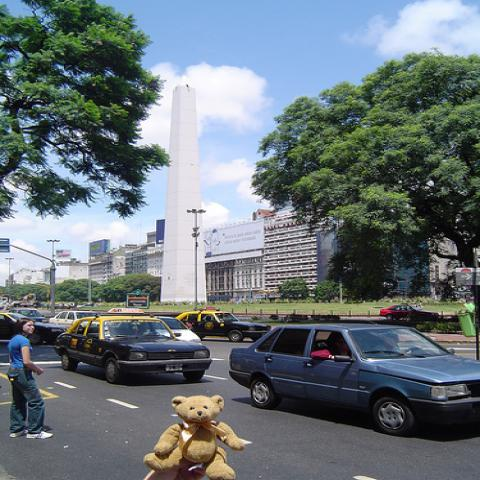car: (225, 320, 479, 436), (56, 316, 212, 386), (175, 306, 272, 342), (0, 313, 67, 345), (377, 304, 438, 322), (48, 310, 103, 329), (8, 306, 46, 318)
